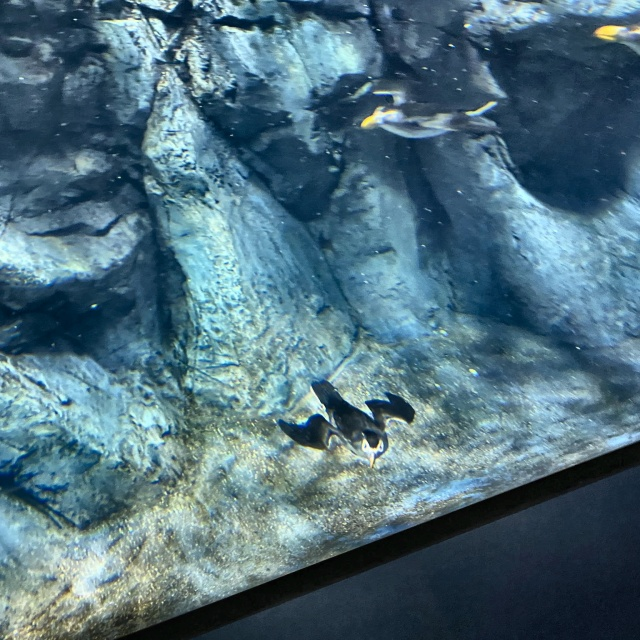puffin: (278, 380, 414, 469), (358, 82, 505, 139), (591, 22, 639, 60)
